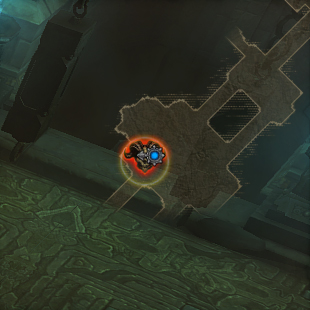Guardian: (123, 139, 168, 175)
